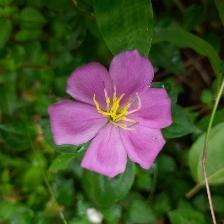malabar melastome: (48, 49, 175, 181)
